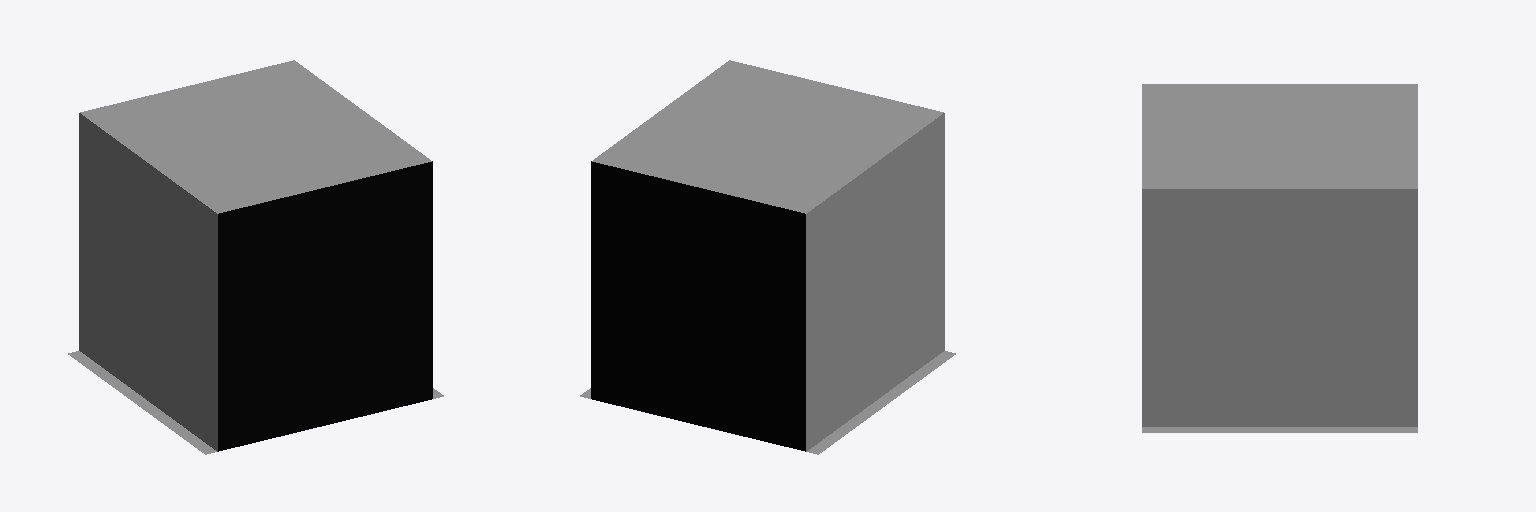
File: edificio5x5.obj
3 views of the same model, side by side, from view 1: azimuth 30°, elevation 25°; view 2: azimuth 150°, elevation 25°; view 3: azimuth 270°, elevation 25° (orthographic).
Parts seen in each view (by area): view 1: Plane; view 2: Plane; view 3: Plane.
Boxes of the visible parts, x1=… form: Plane: x1=68, y1=60, x2=443, y2=454; Plane: x1=580, y1=60, x2=955, y2=454; Plane: x1=1142, y1=84, x2=1417, y2=432.
Size of the model in its own units: 10 by 9.5 by 10.